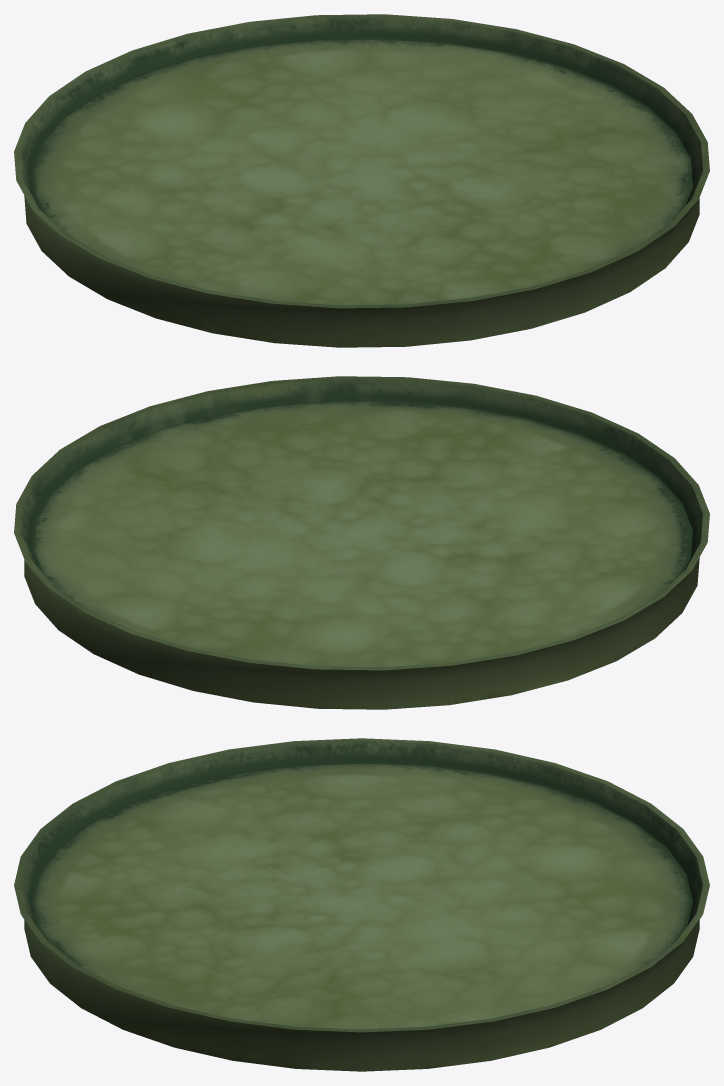
Rendered from lily 1.fbx.
3 renders of one model, top to bottom at view 1: azimuth 30°, elevation 25°; view 2: azimuth 150°, elevation 25°; view 3: azimuth 270°, elevation 25°, orthographic.
Parts seen in each view (by area): view 1: Cylinder.012; view 2: Cylinder.012; view 3: Cylinder.012.
Part boxes in pixels (x1,y1,x2,y2): Cylinder.012: [14, 14, 709, 347]; Cylinder.012: [14, 376, 709, 709]; Cylinder.012: [14, 738, 709, 1071].
Size of the model in its own units: 1814 by 125 by 1814.
